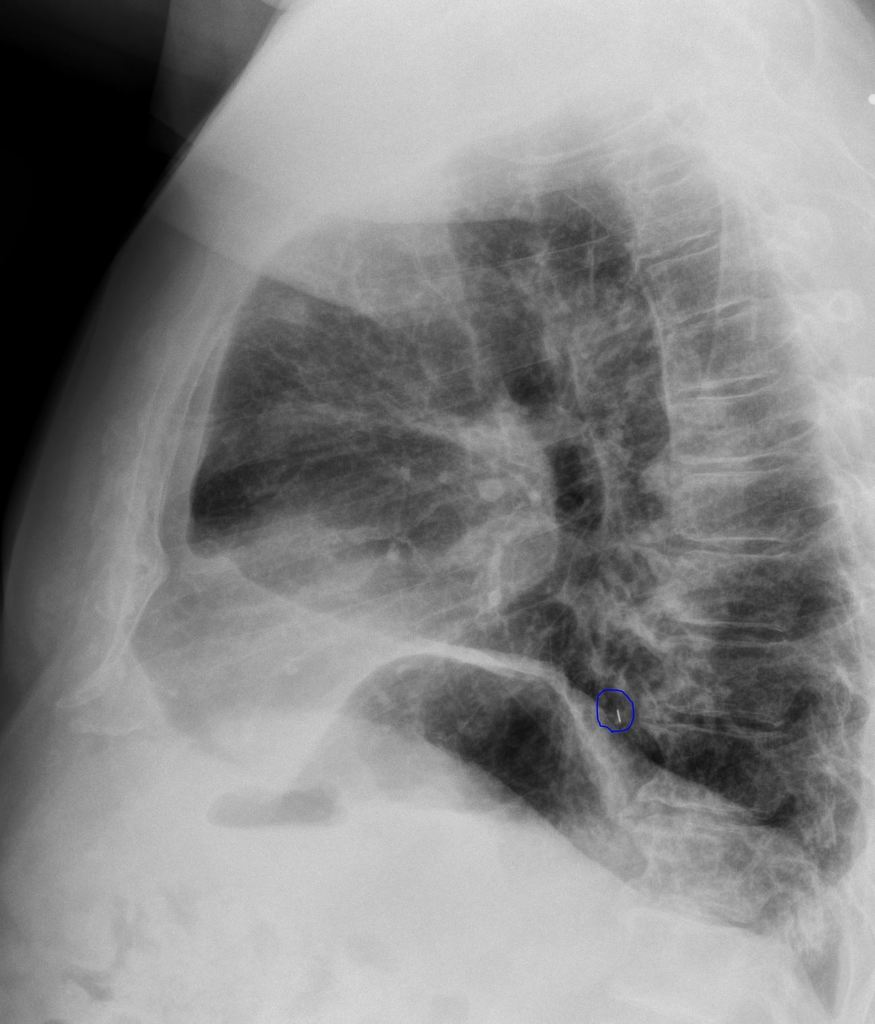cancer: (423, 187, 796, 982)
